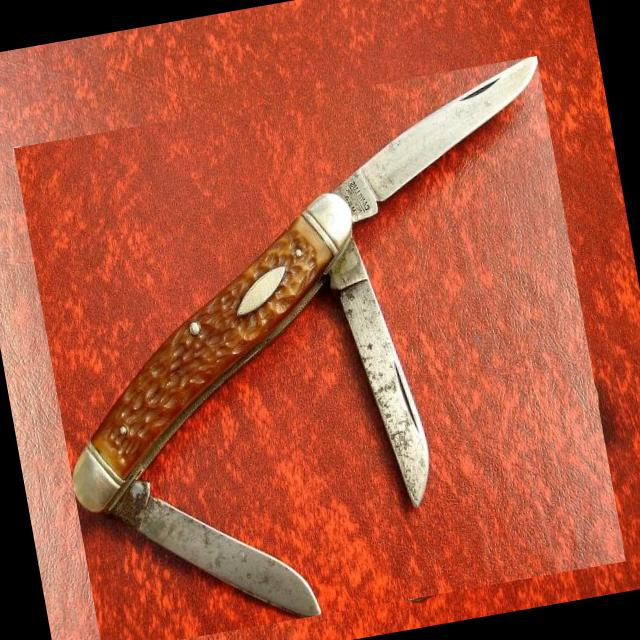Knife: (75, 56, 538, 617)
